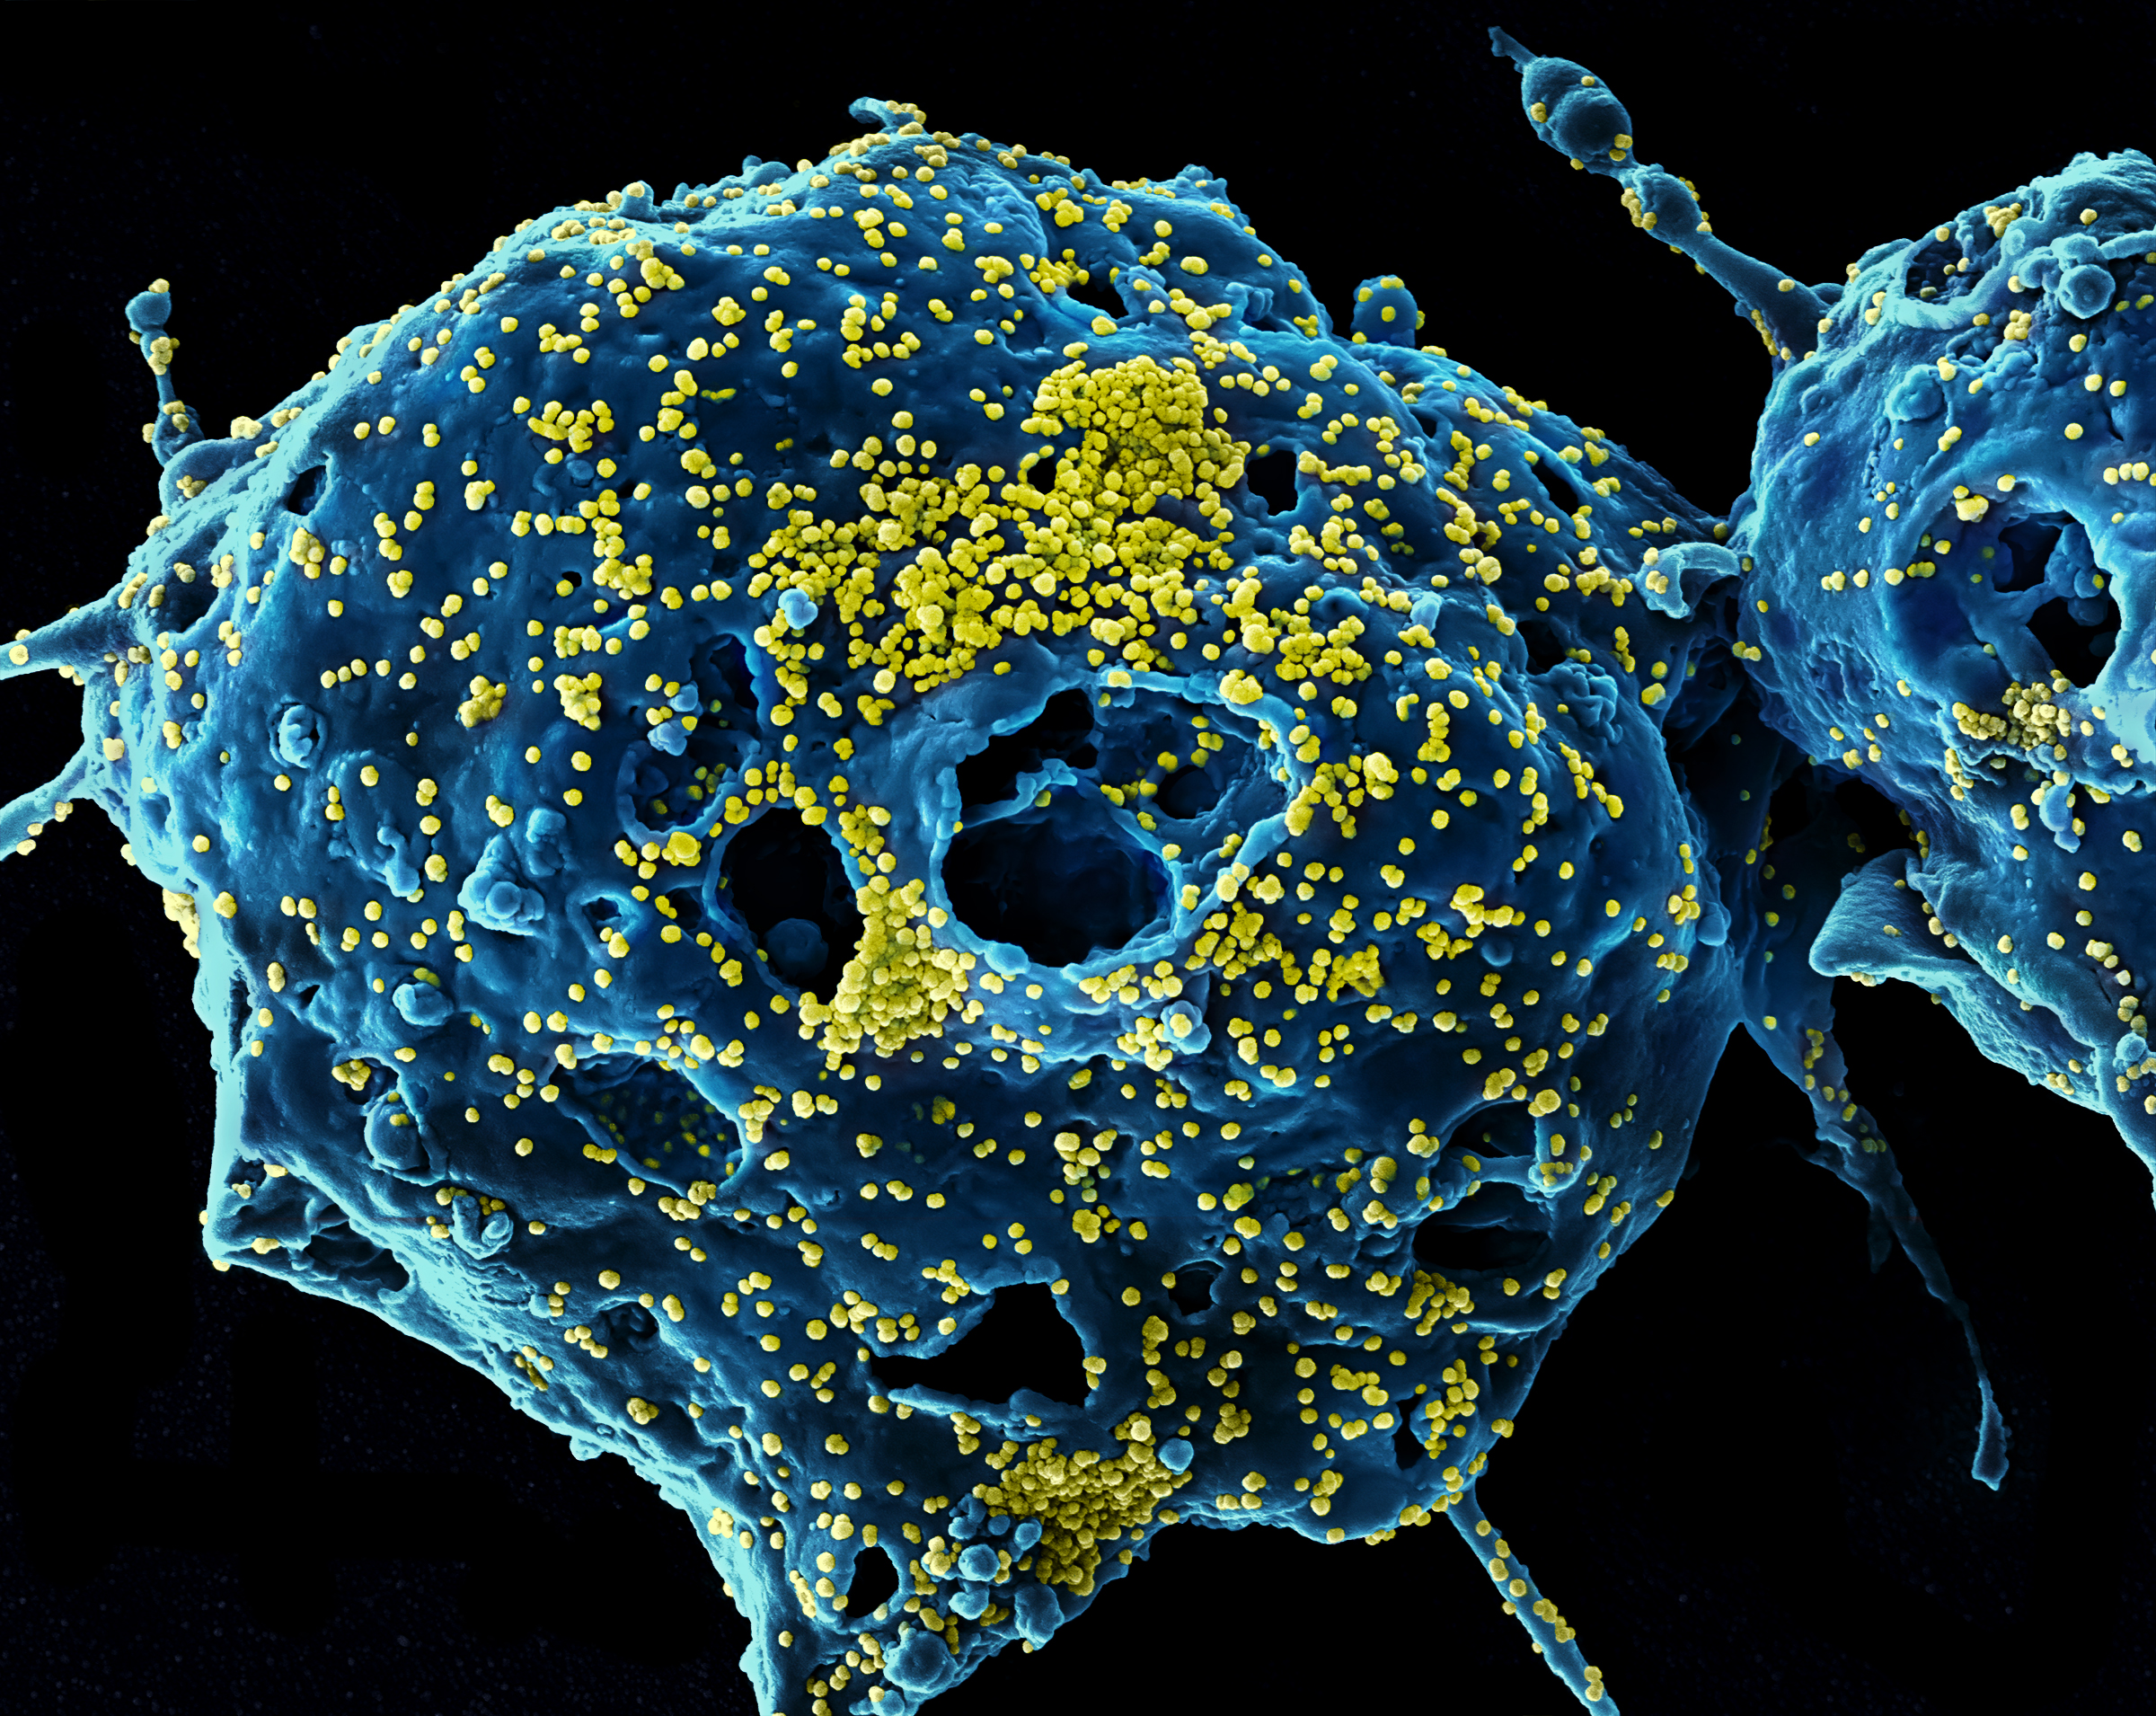COVID19: (420, 196, 1703, 1234)
